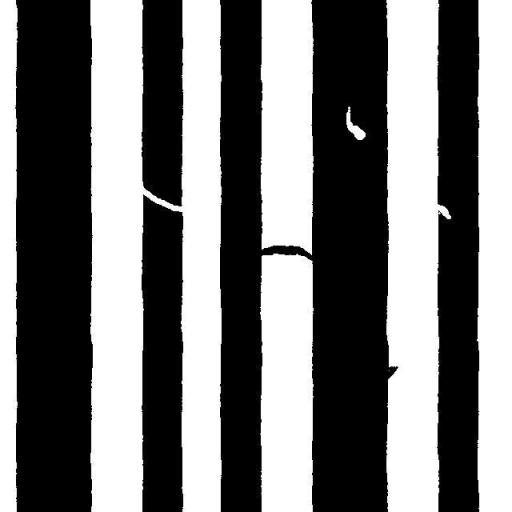mousebite: (428, 196, 458, 226)
open: (126, 172, 192, 219)
pin-hole: (338, 98, 373, 148)
short: (247, 238, 325, 268)
spur: (376, 358, 406, 386)
